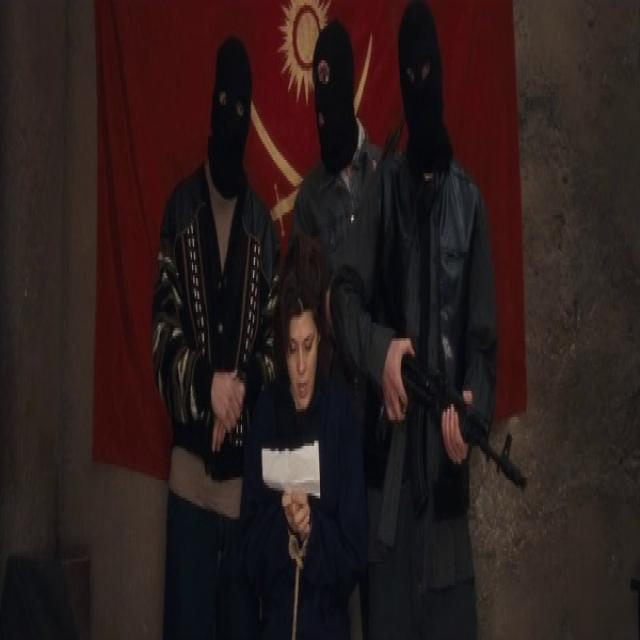rifle: (374, 347, 535, 560)
